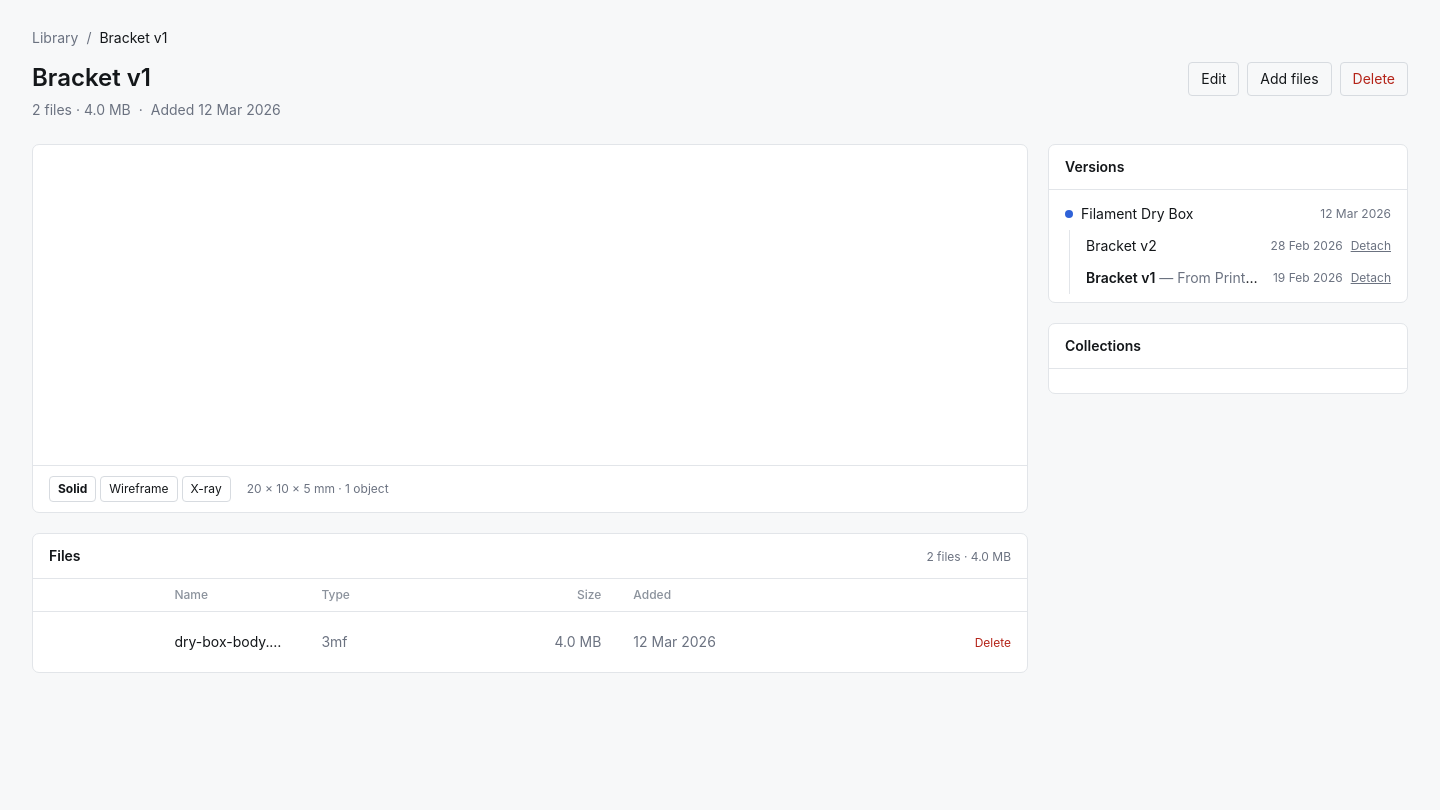
it: model detail taxonomy › counts only its own files when deleting a version
Expected: the heading "Bracket v1" is shown, [32, 63, 151, 92]
Click the 1st button "Delete": (1374, 79) [1340, 62, 1408, 96]
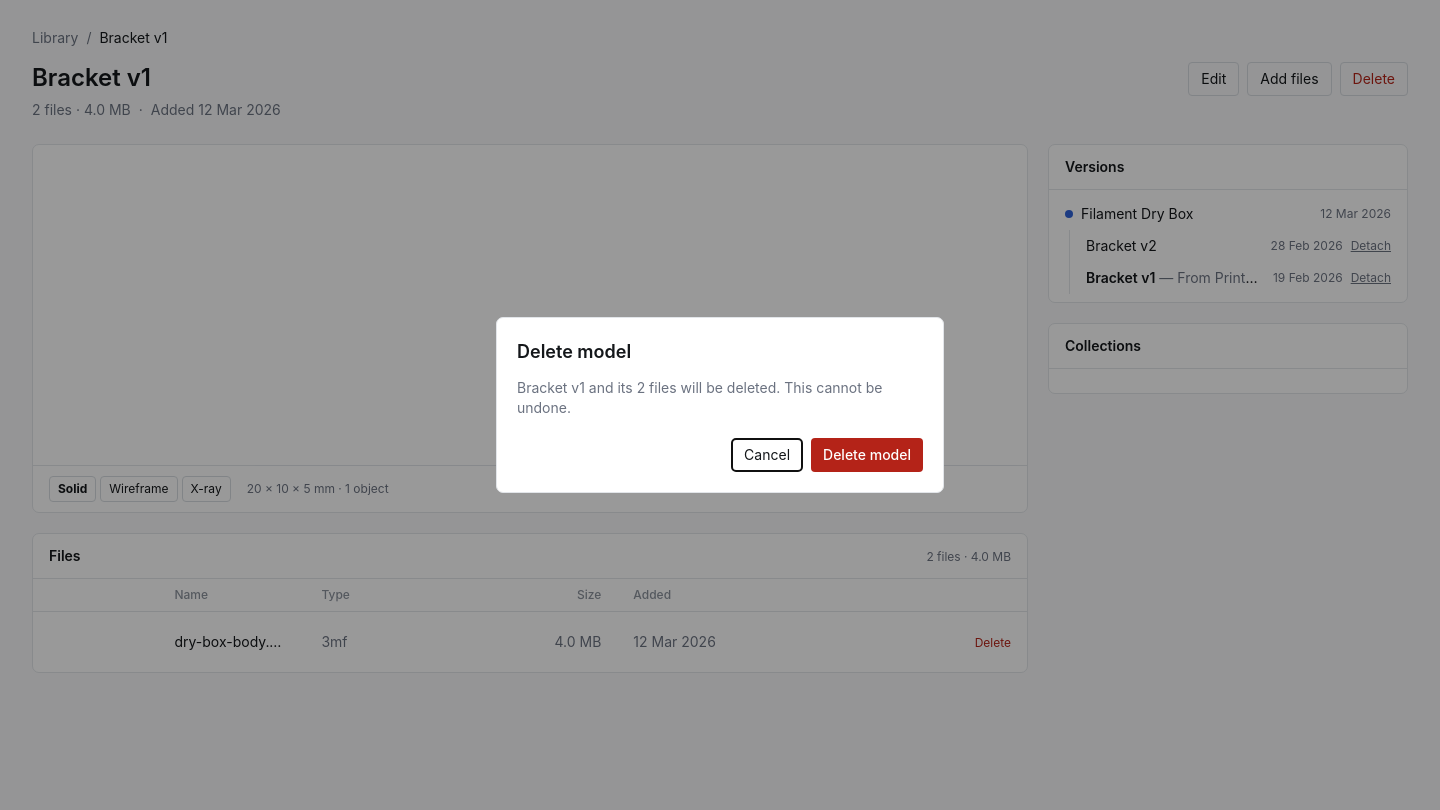
Expected: the text "cannot be undone" does not show "version"
Now the text "cannot be undone" shows "2 files", box [517, 379, 882, 416]
